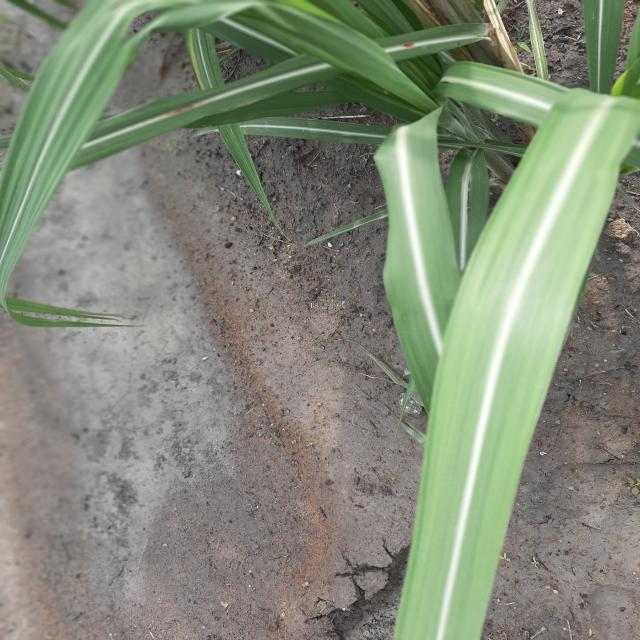Sugarcane: (2, 1, 638, 638)
